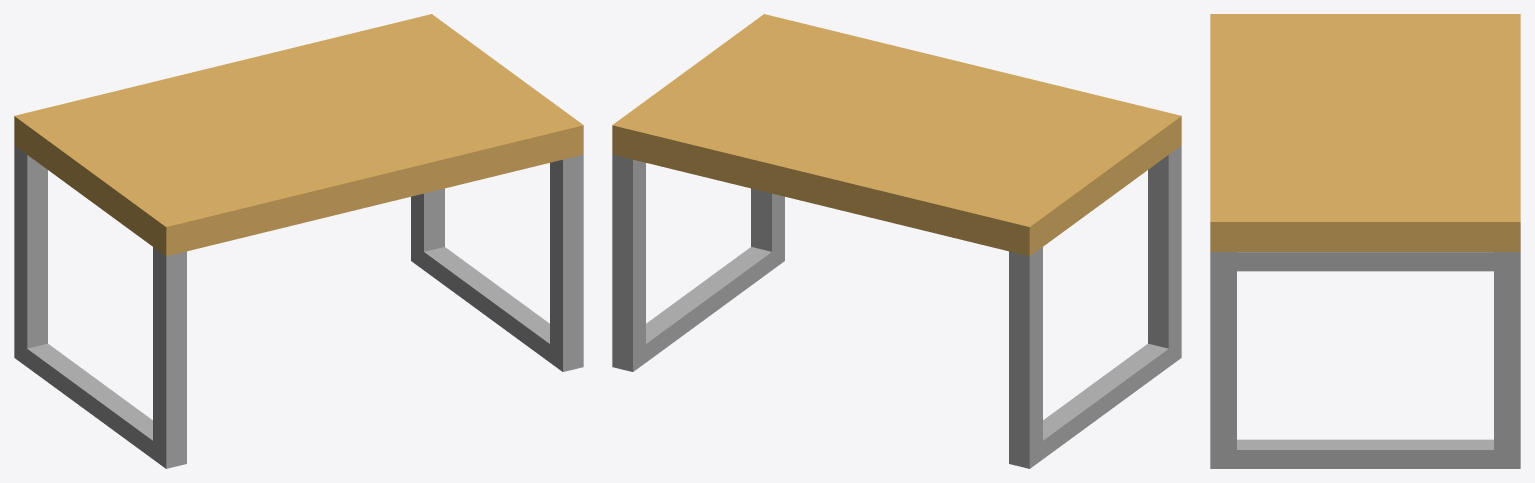
Rendered from Table4.fbx.
3 views of the same model, side by side, from view 1: azimuth 30°, elevation 25°; view 2: azimuth 150°, elevation 25°; view 3: azimuth 270°, elevation 25° (orthographic). The views are drawn at different scales.
Visible parts, largest first — view 1: Cube; view 2: Cube; view 3: Cube.
Boxes of the visible parts, x1=… form: Cube: x1=14, y1=14, x2=583, y2=468; Cube: x1=612, y1=14, x2=1181, y2=468; Cube: x1=1210, y1=14, x2=1520, y2=468.
Size of the model in its own units: 471 by 261 by 297.
